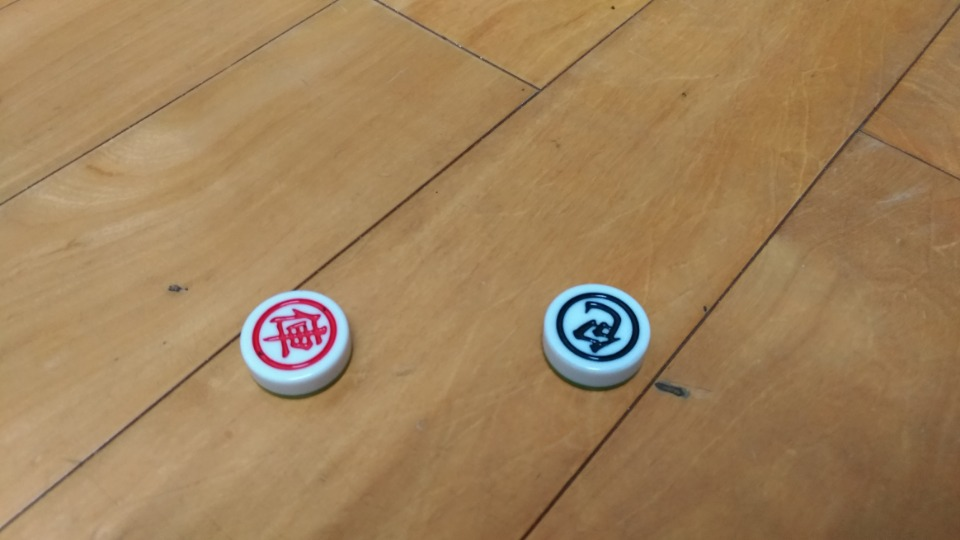b-cannon: (531, 276, 684, 409)
r-rook: (230, 288, 365, 401)
